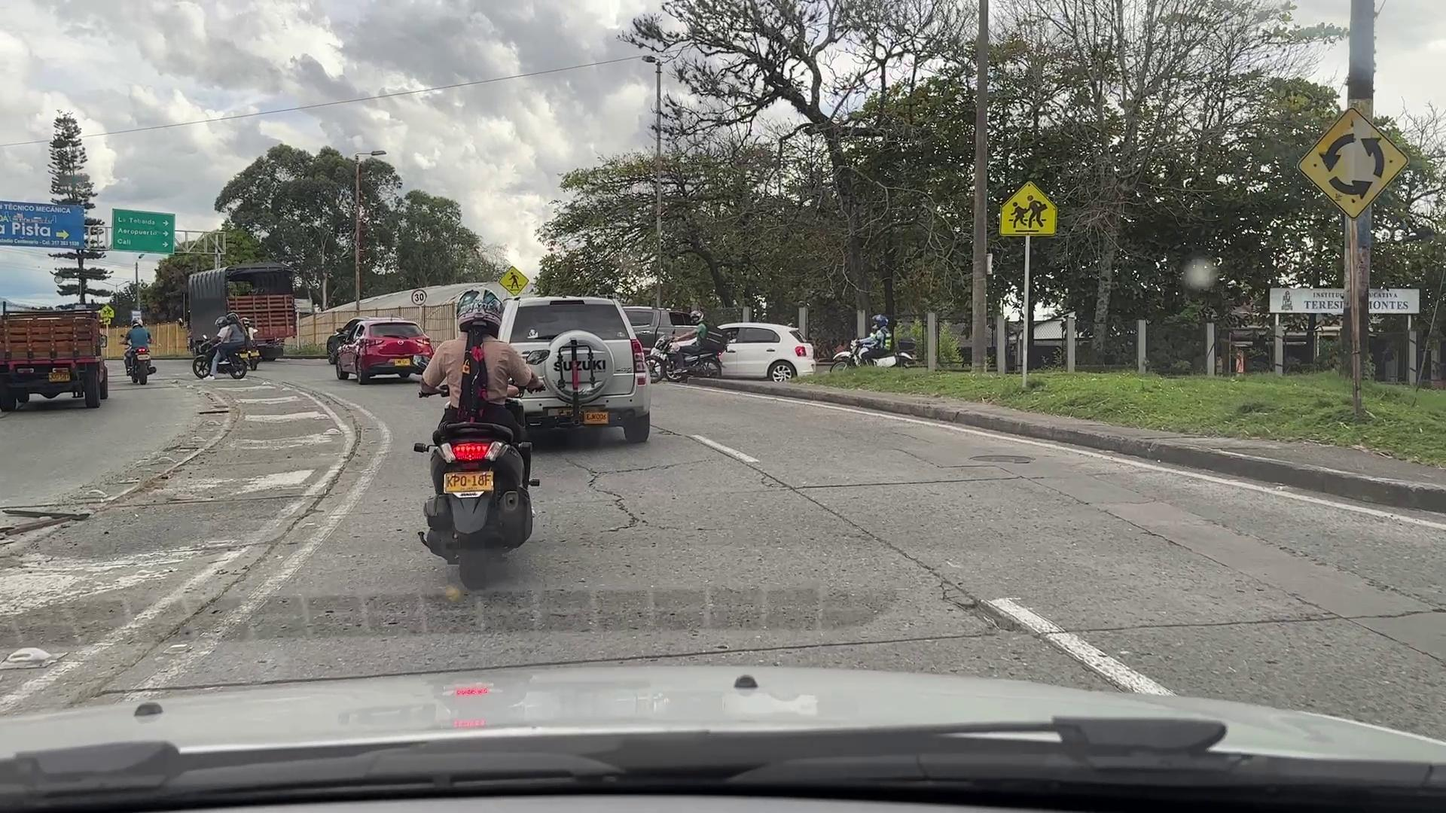bache: (956, 599, 1033, 636)
grieta: (566, 459, 682, 533)
registro: (970, 455, 1033, 463)
